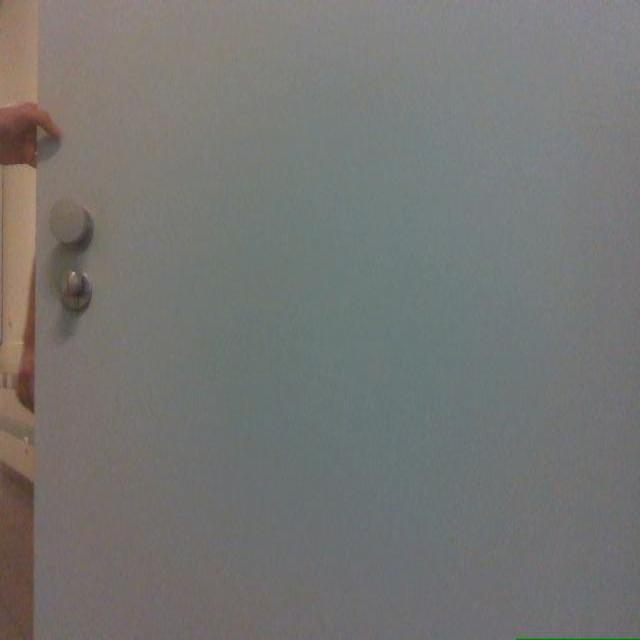humans: (0, 103, 60, 167), (0, 103, 60, 165), (16, 259, 34, 411)
objects: (34, 0, 639, 639)
